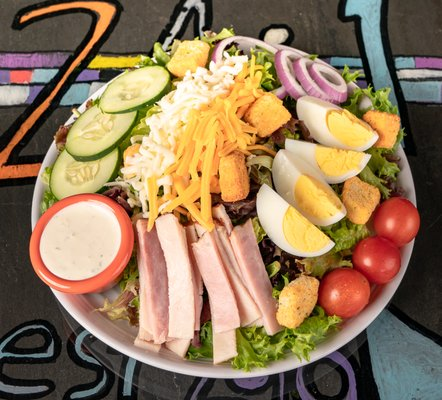salad: (0, 2, 123, 172)
steak: (255, 182, 335, 259)
sushi: (29, 194, 134, 296)
